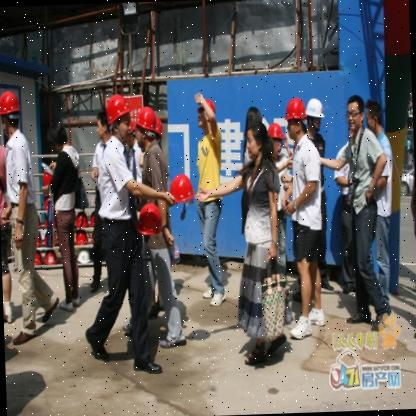bota: (85, 325, 109, 362), (288, 316, 312, 340), (40, 296, 61, 323), (12, 326, 36, 346), (133, 358, 163, 374), (346, 309, 372, 325), (160, 332, 186, 348), (308, 306, 326, 326), (209, 287, 225, 307)
capacete: (104, 93, 132, 143), (132, 107, 158, 148), (0, 90, 21, 136), (284, 98, 306, 140), (305, 98, 326, 133), (266, 122, 284, 154)
oculos: (346, 109, 363, 120)
